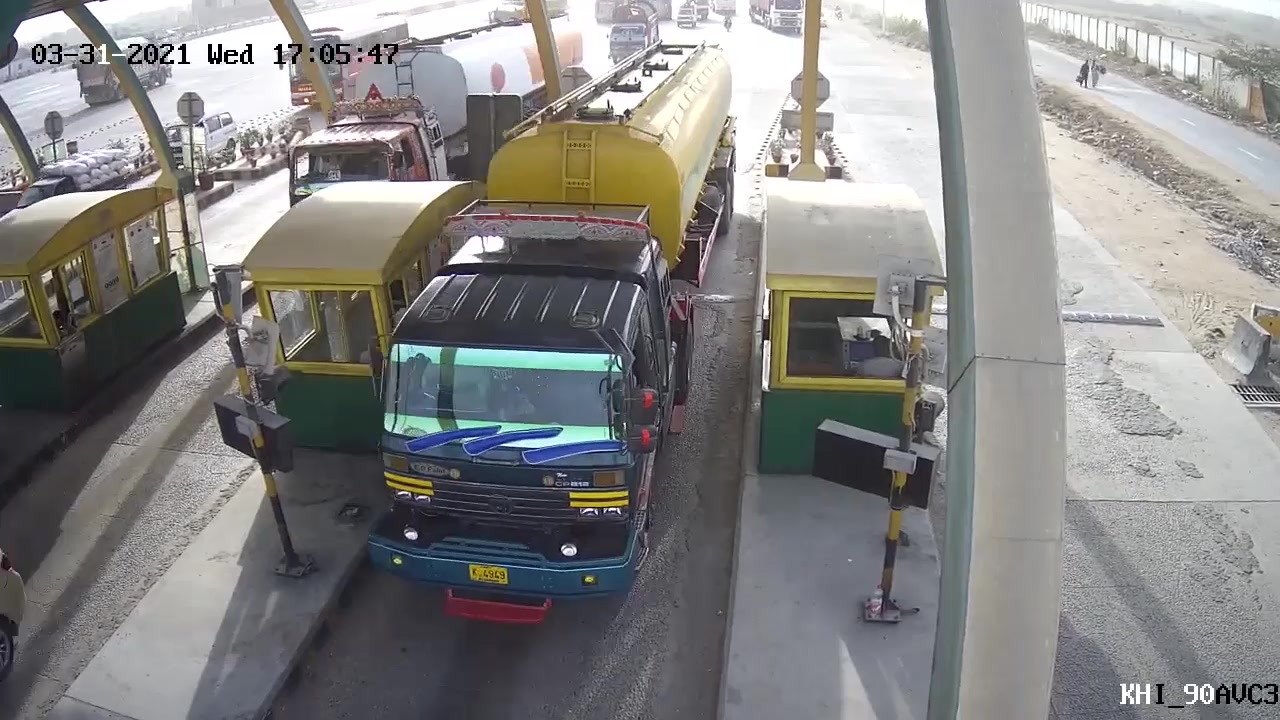F5: (361, 43, 750, 640)
